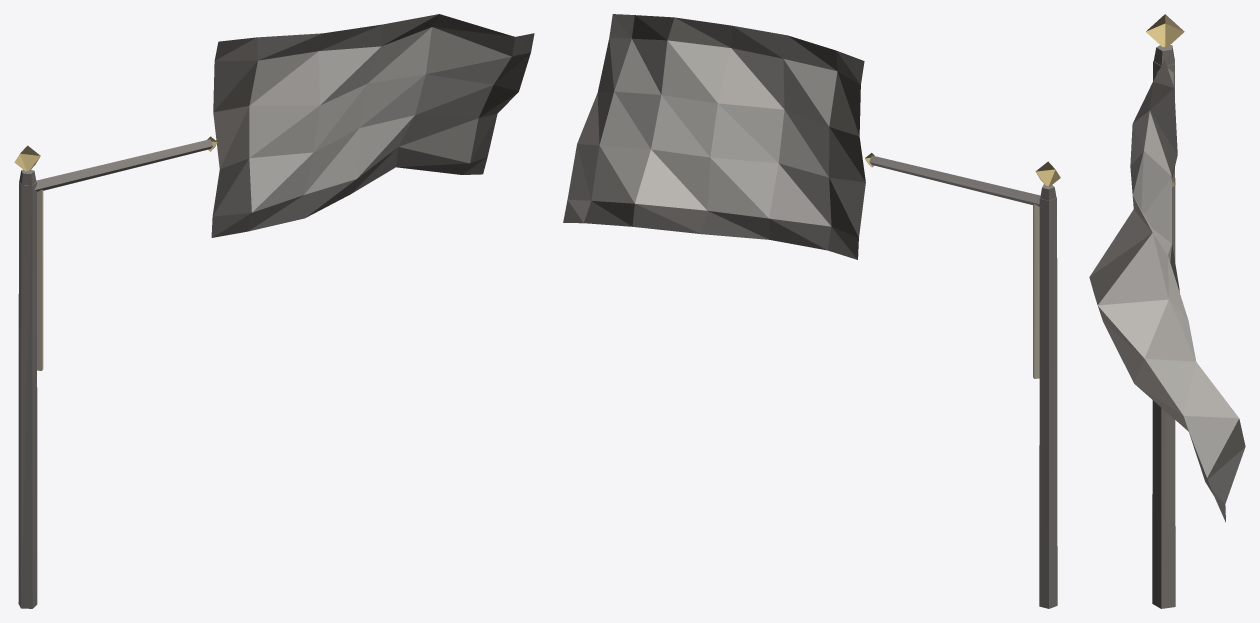
Rendered from flag.rect.suqi__pole.stick.fangun__armFly.glb.
3 renders of one model, left to right at view 1: azimuth 30°, elevation 25°; view 2: azimuth 150°, elevation 25°; view 3: azimuth 270°, elevation 25°, orthographic. The views are drawn at different scales.
Visible parts, largest first — view 1: flag.rect.suqi; view 2: flag.rect.suqi; view 3: flag.rect.suqi.
Boxes of the visible parts, box(x1,y1,x2,y2) form: flag.rect.suqi: box(14, 14, 534, 608); flag.rect.suqi: box(563, 14, 1060, 608); flag.rect.suqi: box(1089, 14, 1245, 608).
Size of the model in its own units: 2.56 by 2.57 by 0.5482.
